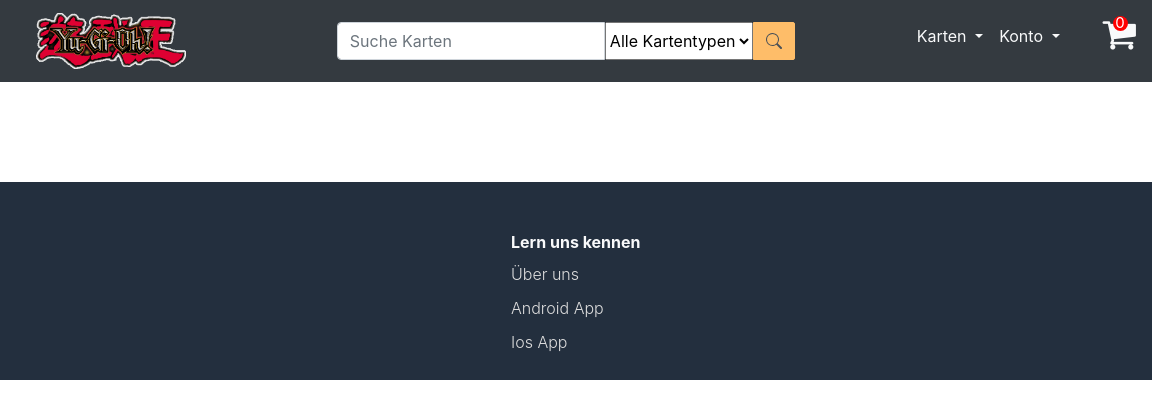
Test: NavBar › should have elements in the "Konto" dropdown menu
The width and height of the screenshot is (1152, 397).
Step 1. Click the button "Konto" → {"x": 1029, "y": 36}, box 991,16 -> 1067,56
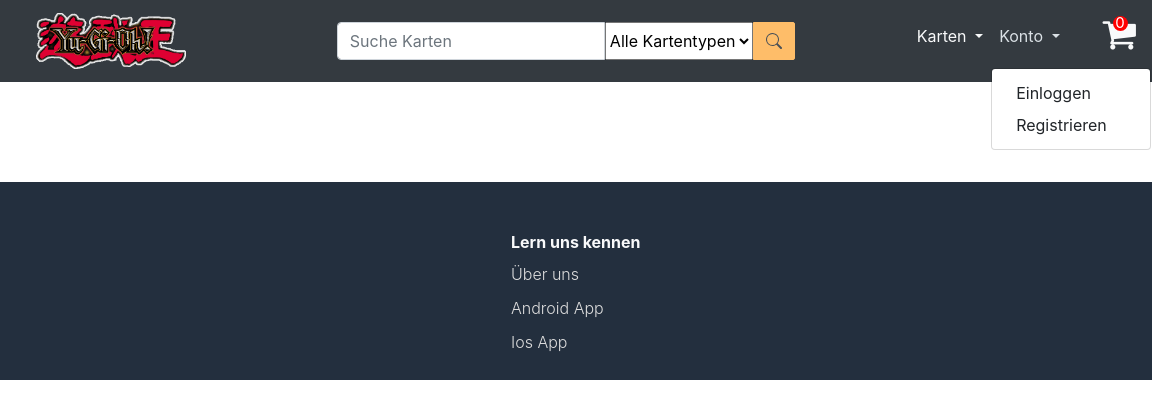
Result: the link with class "dropdown-menu" reads "Einloggen" at 1016,83 -> 1091,103
Result: the link with class "dropdown-menu" reads "Registrieren" at 1016,115 -> 1107,135
